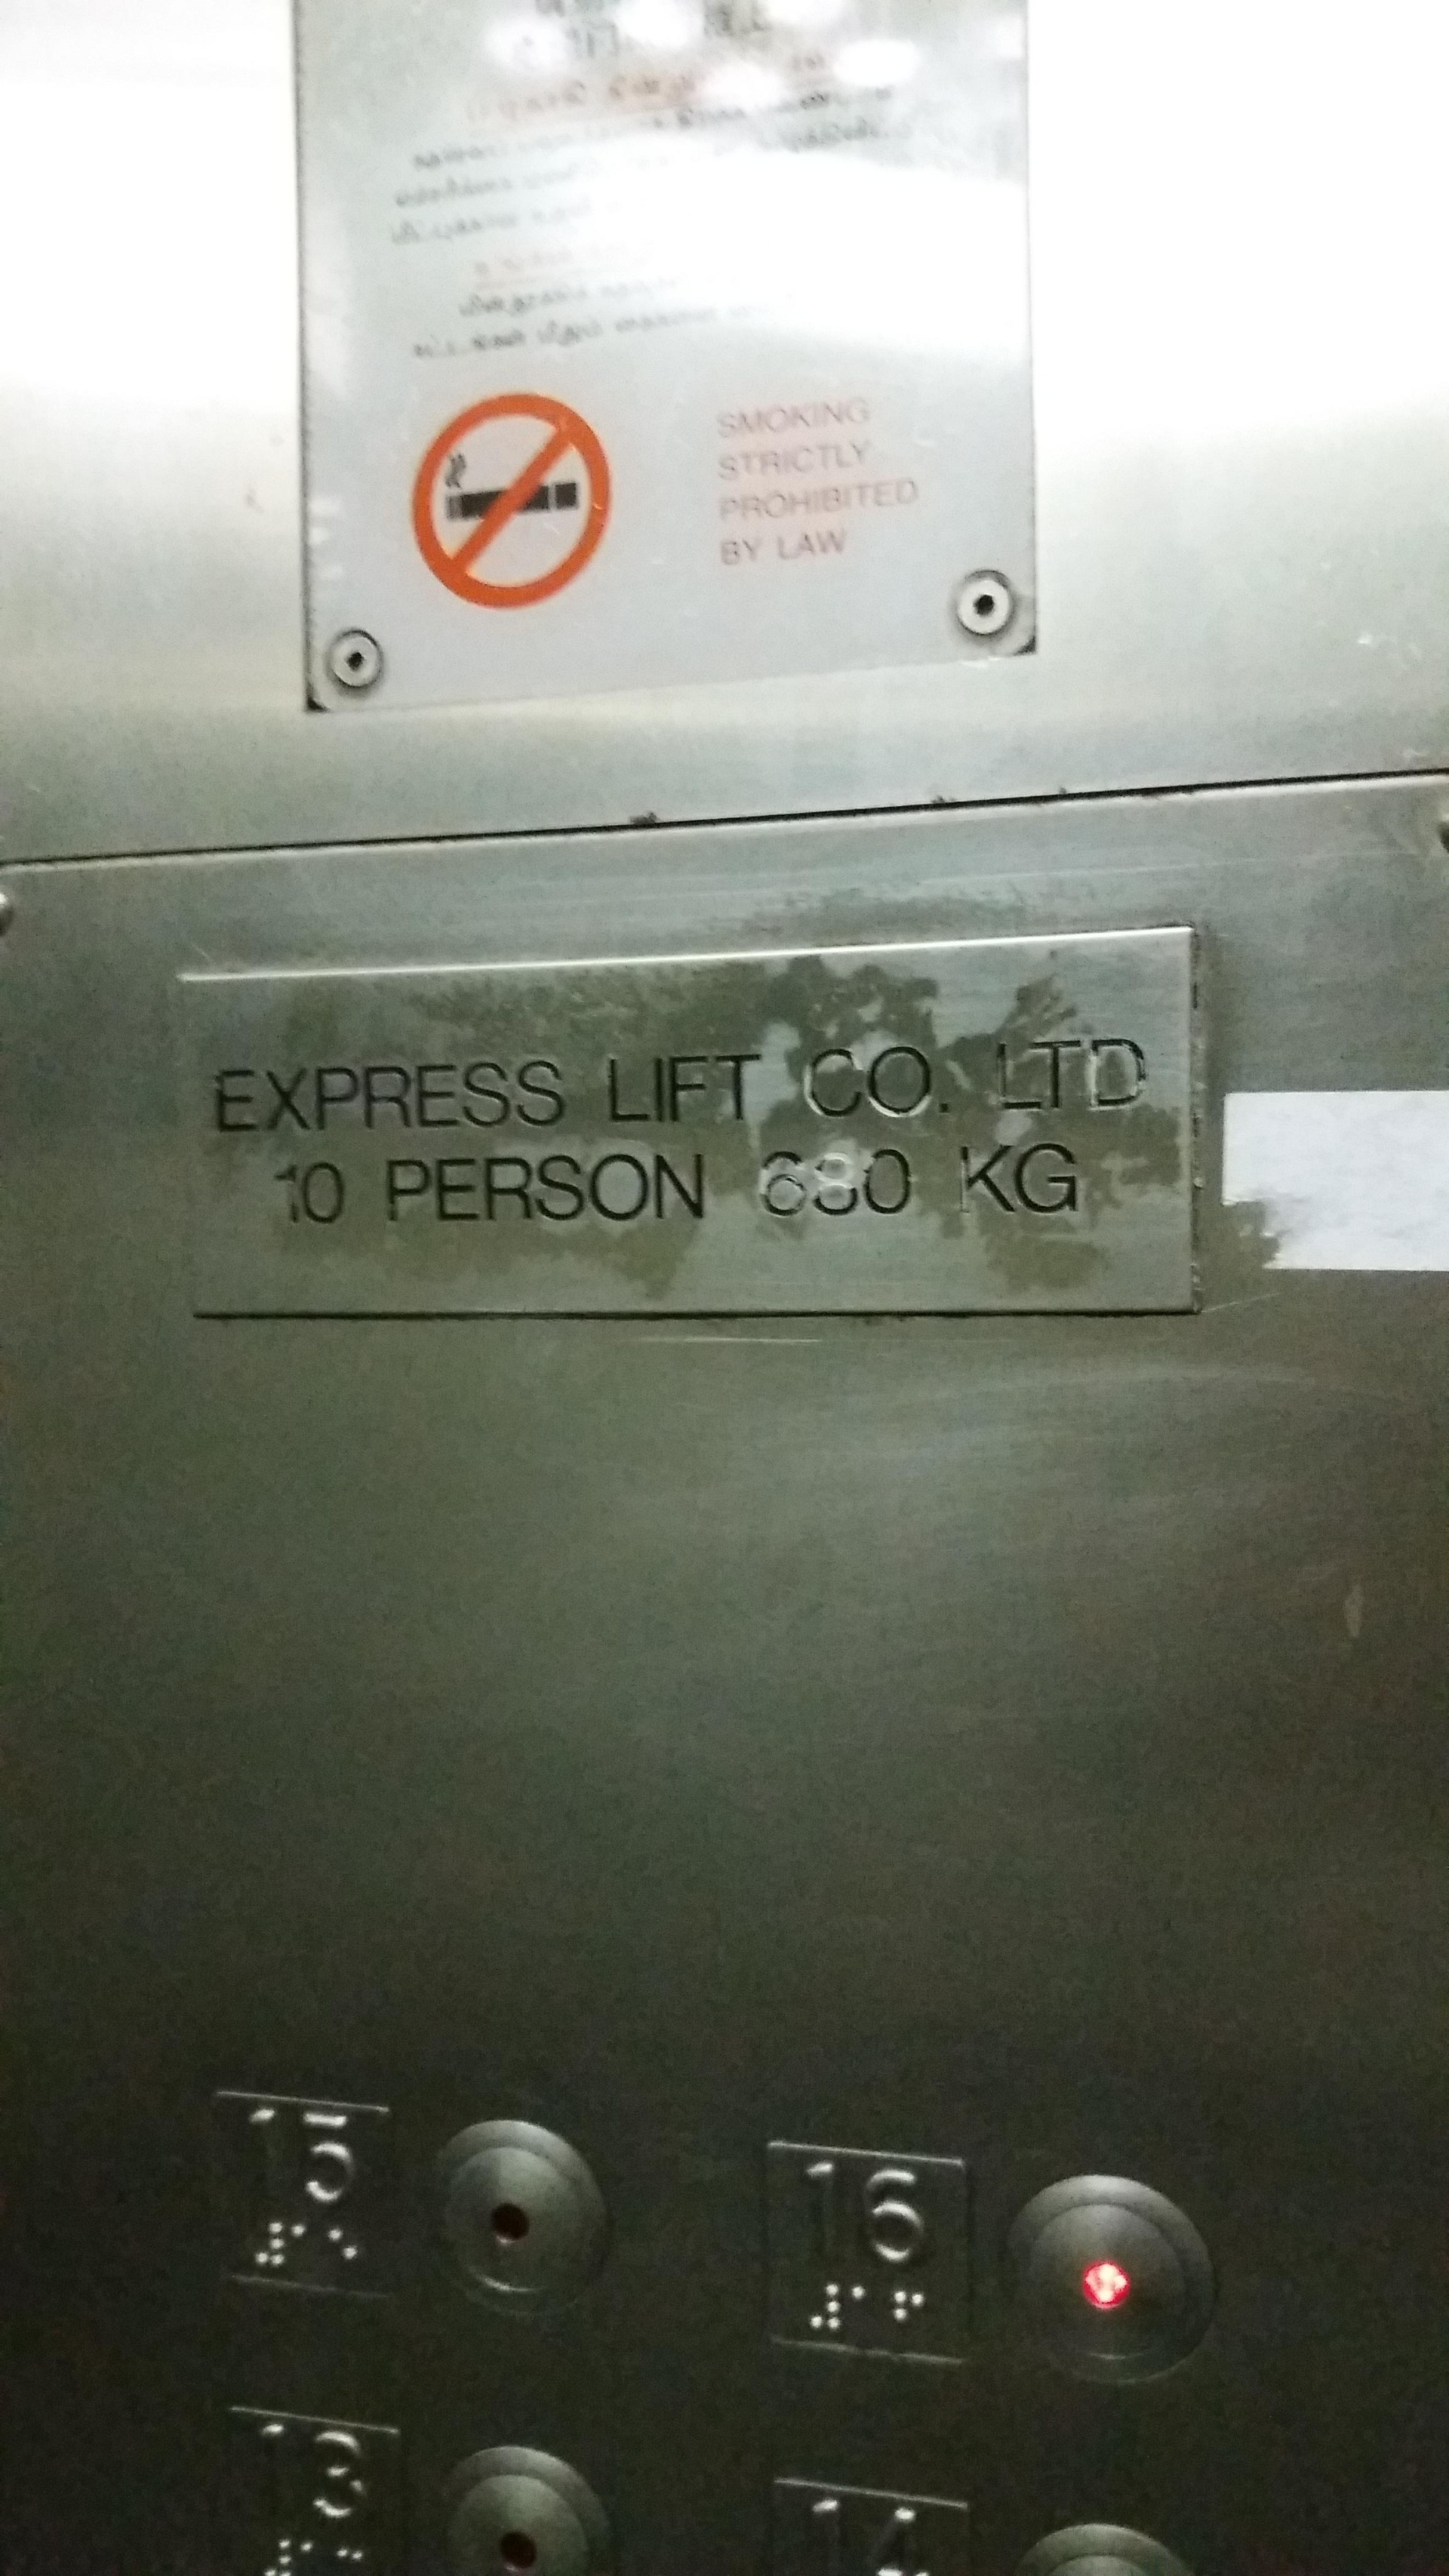13: (218, 2403, 409, 2576)
15: (207, 2082, 402, 2300)
16: (757, 2134, 977, 2365)
empty: (996, 2173, 1219, 2394), (423, 2111, 614, 2330), (437, 2442, 607, 2576)
